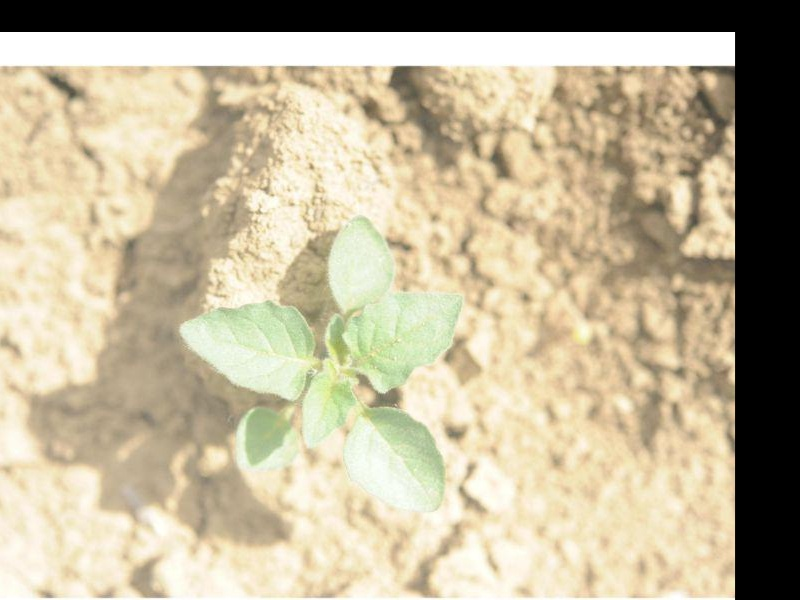nightshade: (179, 211, 465, 511)
